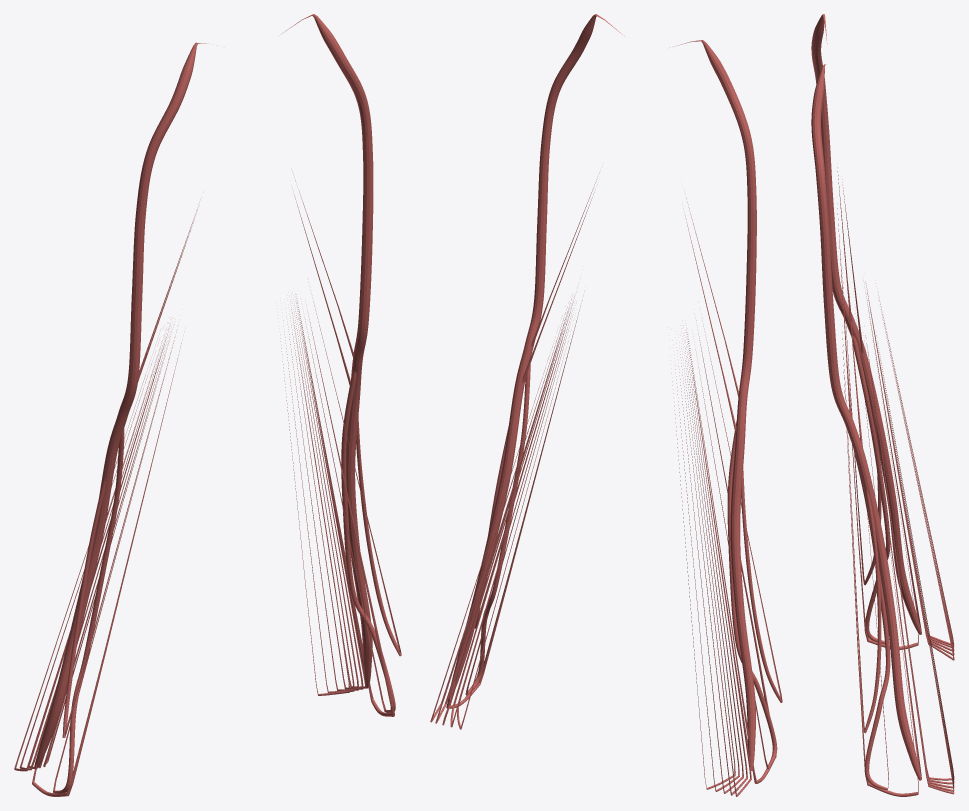
The model's file is leg_arteries.glb.
3 views of the same model, side by side, from view 1: azimuth 30°, elevation 25°; view 2: azimuth 150°, elevation 25°; view 3: azimuth 270°, elevation 25° (orthographic). The views are drawn at different scales.
Parts seen in each view (by area): view 1: leg_arteries; view 2: leg_arteries; view 3: leg_arteries.
Part boxes in pixels (x1,y1,x2,y2): leg_arteries: (14, 14, 401, 796); leg_arteries: (430, 14, 782, 796); leg_arteries: (811, 14, 954, 796).
Bounding box in the file's own units: 0.4219 × 0.8917 × 0.1693.
